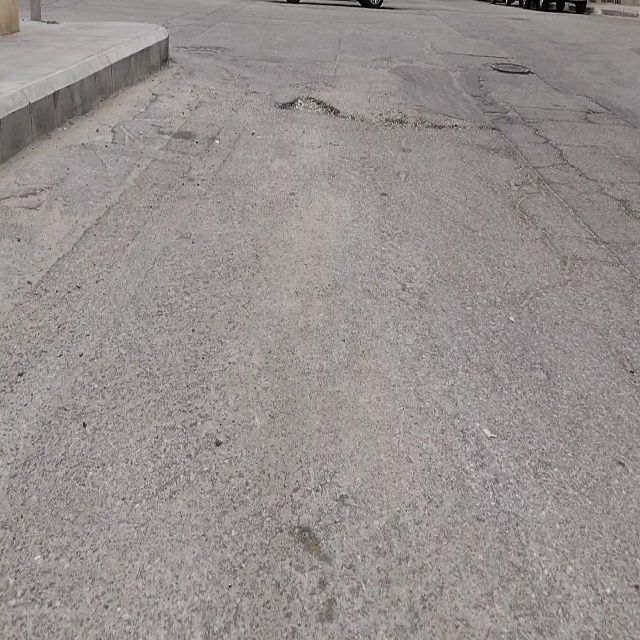pothole: (278, 95, 341, 119)
